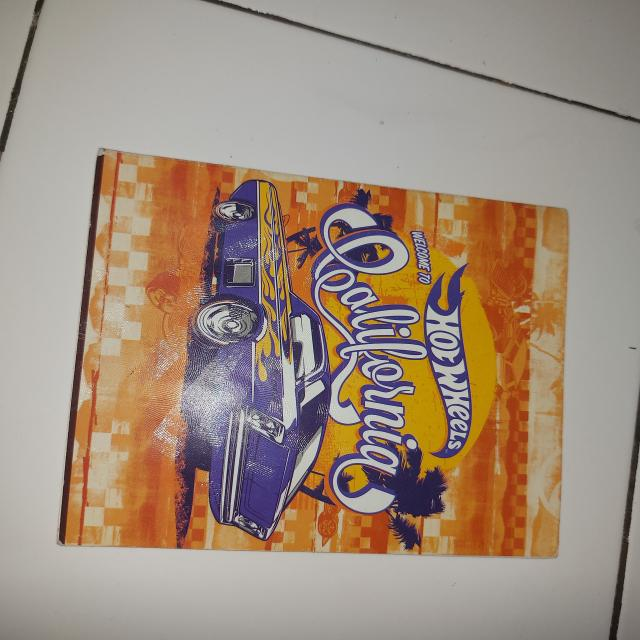Organik: (59, 148, 574, 561)
